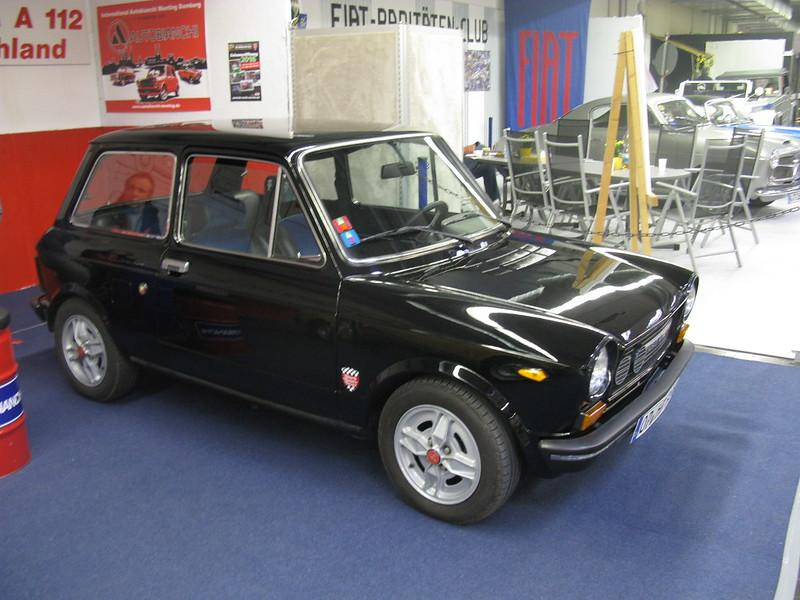windshield: (289, 135, 515, 270)
